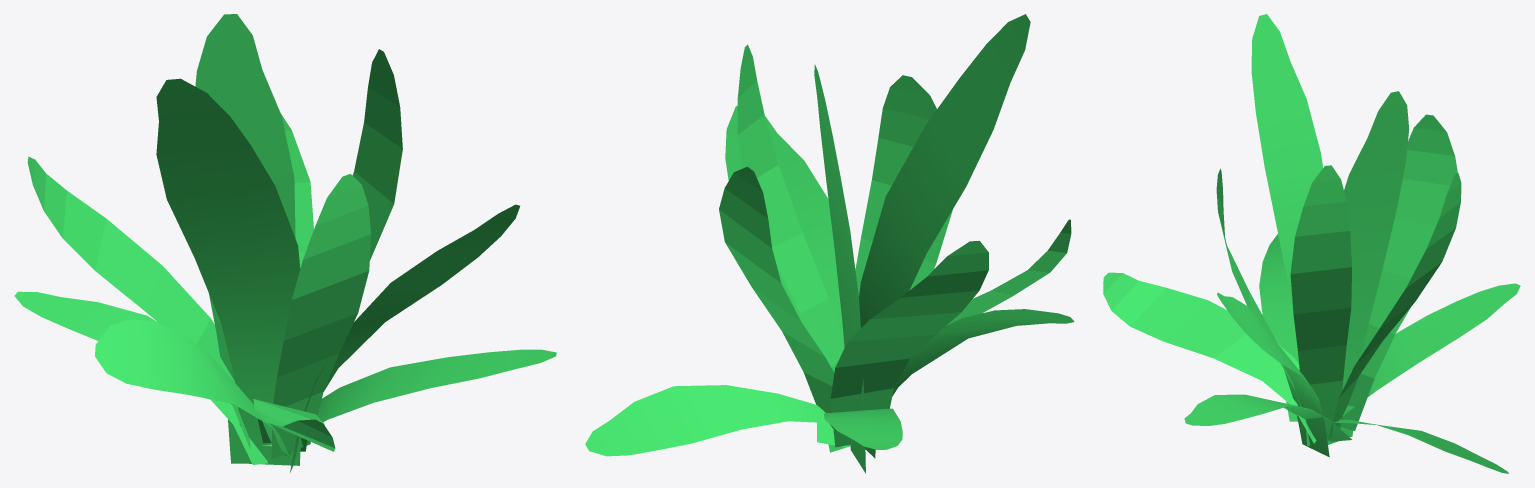
The model's file is Grass_assembly.fbx.
3 renders of one model, left to right at view 1: azimuth 30°, elevation 25°; view 2: azimuth 150°, elevation 25°; view 3: azimuth 270°, elevation 25°, orthographic. The views are drawn at different scales.
Visible parts, largest first — view 1: 平面; view 2: 平面; view 3: 平面.
Boxes of the visible parts, <box> form: 平面: <box>14,14,556,472</box>; 平面: <box>585,14,1074,473</box>; 平面: <box>1103,14,1520,473</box>.
Bounding box in the file's own units: 423 × 456 × 457.
